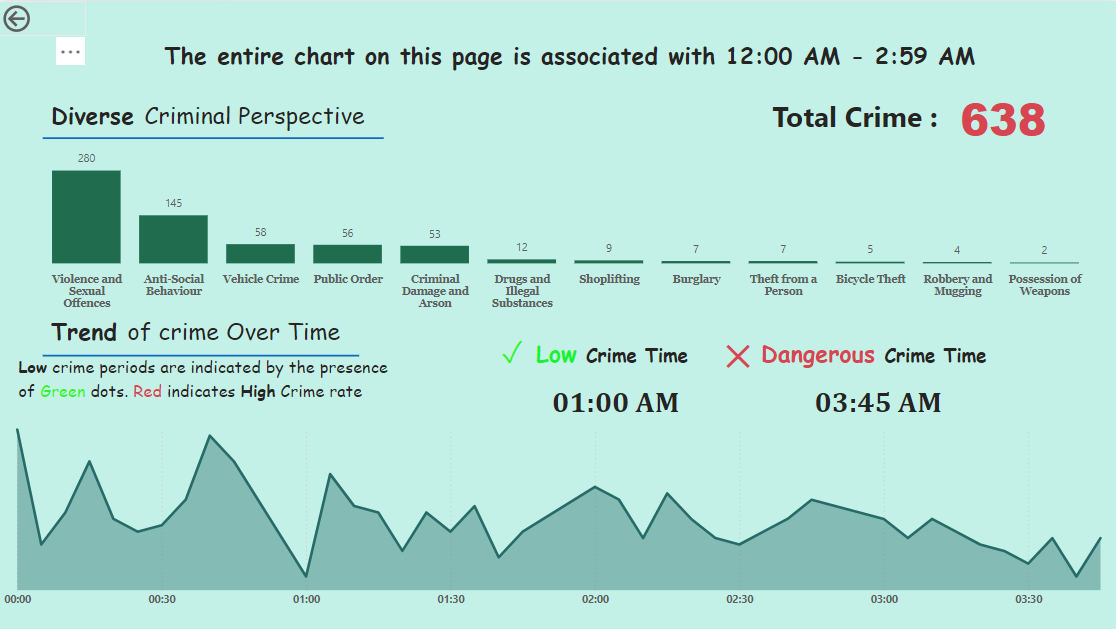

This screenshot's page, from the dashboard's own definition file:
{"tool":"powerbi","page":{"name":"Detail","canvas":[1280,720],"ordinal":1},"visuals":[{"type":"actionButton","box":[0,0,100.3,40.4],"z":0},{"type":"areaChart","fields":{"Category":["Crime Data.Crime Time"],"Y":["Calculation.Total Crimes"]},"box":[0,475.3,1280,226.8],"z":1000},{"type":"card","fields":{"Values":["Calculation.DrillThrough"]},"box":[53.8,20.8,1208.2,83.2],"z":2000},{"type":"clusteredColumnChart","fields":{"Y":["Calculation.Total Crimes"],"Category":["Crime Types.Crime"]},"box":[0,158,1280,201.5],"z":3000},{"type":"textbox","box":[865.9,378.7,299.1,52.1],"z":4000},{"type":"card","fields":{"Values":["Calculation.Cross"]},"box":[824.7,378.7,41.2,52.1],"z":5000},{"type":"textbox","box":[609.3,378.7,201.7,52.1],"z":6000},{"type":"card","fields":{"Values":["Calculation.Check"]},"box":[564,370.5,45.3,60.4],"z":7000},{"type":"card","fields":{"Values":["Min(Crime Data.Time_AMPM)"]},"box":[898.8,430.9,212.7,52.1],"z":8000},{"type":"card","fields":{"Values":["Min(Crime Data.Time_AMPM)"]},"box":[598.3,430.9,212.7,52.1],"z":9000},{"type":"textbox","box":[54.3,352.3,422.3,53.1],"z":10000},{"type":"textbox","box":[17.8,400.7,454.2,74.1],"z":11000},{"type":"textbox","box":[54.3,106.2,422.3,51.9],"z":12000},{"type":"card","fields":{"Values":["Calculation.Total Crimes"]},"box":[1077.3,86.8,141.8,90.5],"z":13000},{"type":"textbox","box":[879.2,103.9,215.2,53.8],"z":13001},{"type":"shape","box":[50.7,115.8,389.7,82],"z":13002},{"type":"shape","box":[50.7,390.9,361.9,27.7],"z":13003}]}

Visuals, with their boxes in screenshot pixels (x1, y1, x2, y2), scaled from the page's 1280x720 canvas onto the 1116x629 screenshot:
actionButton: <box>0,0,87,35</box>
areaChart - Crime Data.Crime Time x Calculation.Total Crimes: <box>0,415,1115,613</box>
card - Calculation.DrillThrough: <box>47,18,1100,91</box>
clusteredColumnChart - Calculation.Total Crimes x Crime Types.Crime: <box>0,138,1115,314</box>
textbox: <box>755,331,1016,376</box>
card - Calculation.Cross: <box>719,331,755,376</box>
textbox: <box>531,331,707,376</box>
card - Calculation.Check: <box>492,324,531,376</box>
card - Min(Crime Data.Time_AMPM): <box>784,376,969,422</box>
card - Min(Crime Data.Time_AMPM): <box>522,376,707,422</box>
textbox: <box>47,308,416,354</box>
textbox: <box>16,350,412,415</box>
textbox: <box>47,93,416,138</box>
card - Calculation.Total Crimes: <box>939,76,1063,155</box>
textbox: <box>767,91,954,138</box>
shape: <box>44,101,384,173</box>
shape: <box>44,341,360,366</box>
